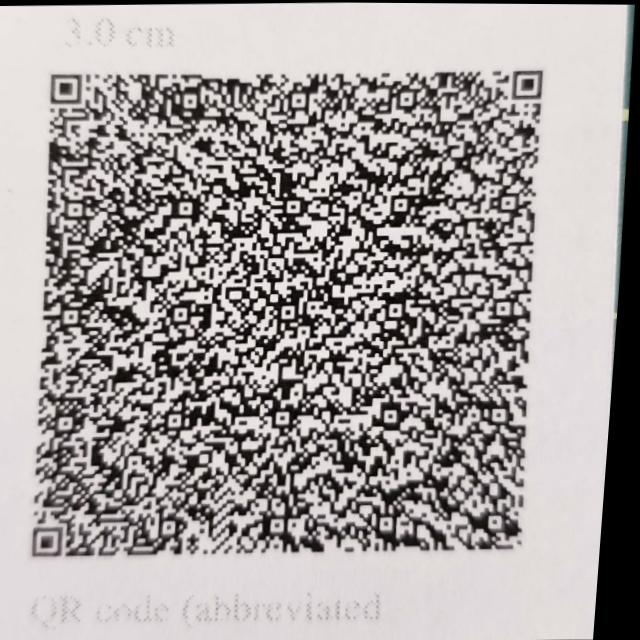QR_CODE: (0, 36, 577, 586)
